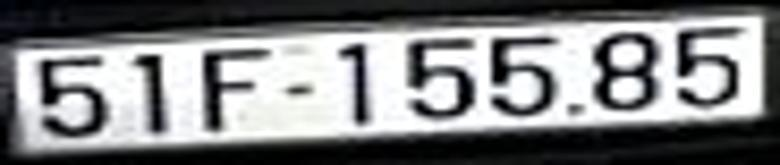-: (282, 79, 318, 99)
.: (567, 98, 586, 119)
1: (129, 51, 169, 133), (336, 41, 374, 126)
5: (399, 37, 481, 120), (671, 23, 745, 108), (486, 32, 560, 116), (38, 53, 110, 138)
8: (592, 30, 660, 112)
F: (201, 47, 273, 133)
